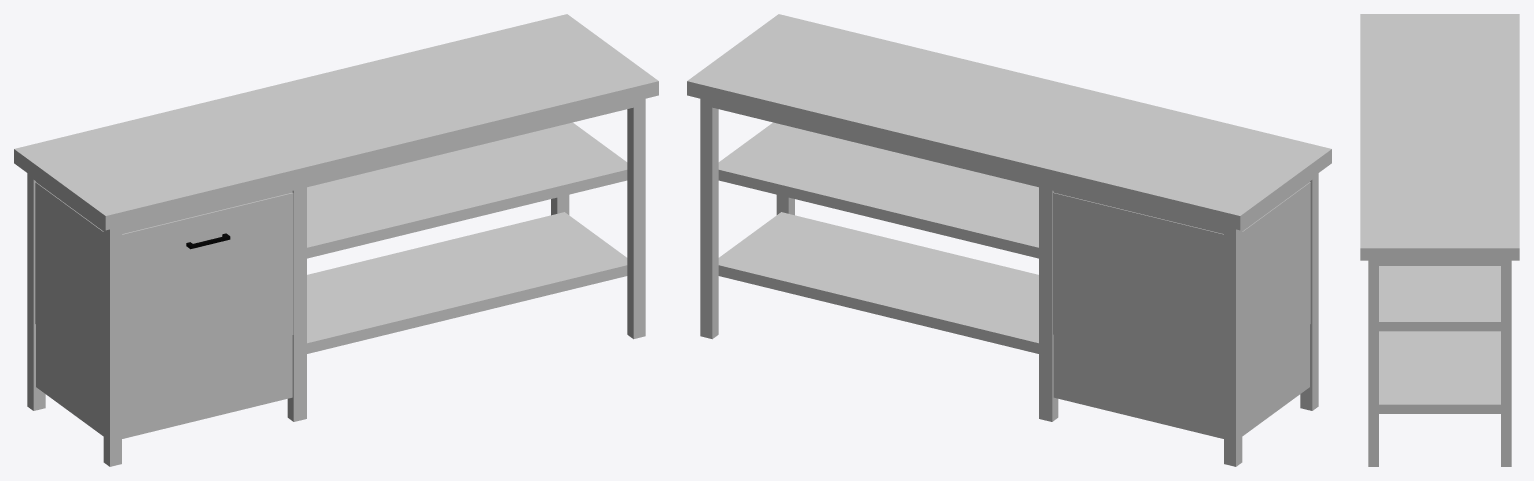
File: C_Cabinet_2.fbx
3 renders of one model, left to right at view 1: azimuth 30°, elevation 25°; view 2: azimuth 150°, elevation 25°; view 3: azimuth 270°, elevation 25°, orthographic. The views are drawn at different scales.
Parts seen in each view (by area): view 1: C_Cabinet_2; view 2: C_Cabinet_2; view 3: C_Cabinet_2.
Part boxes in pixels (box(x1,y1,x2,y2)): C_Cabinet_2: box(14, 14, 658, 466); C_Cabinet_2: box(687, 14, 1331, 466); C_Cabinet_2: box(1360, 14, 1519, 466).
Size of the model in its own units: 1812 by 520 by 802.
